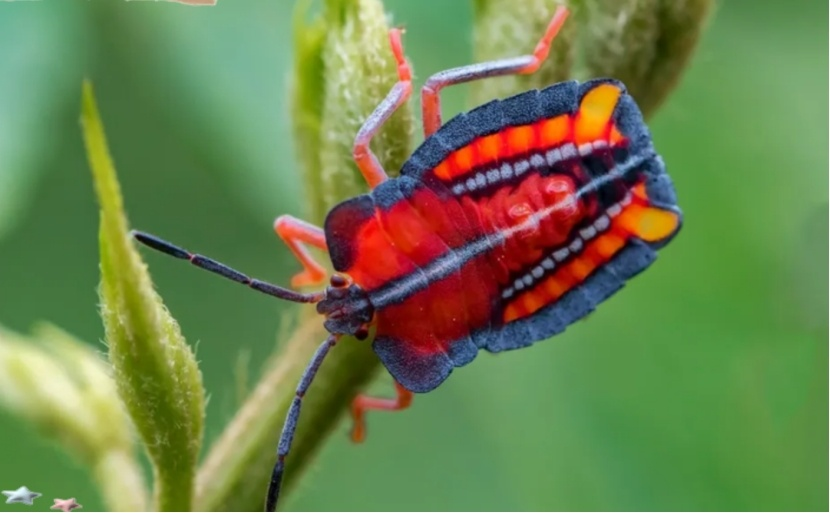Stink_Bug: (361, 28, 626, 395)
